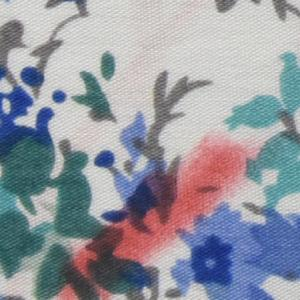Stain: (46, 126, 269, 300)
